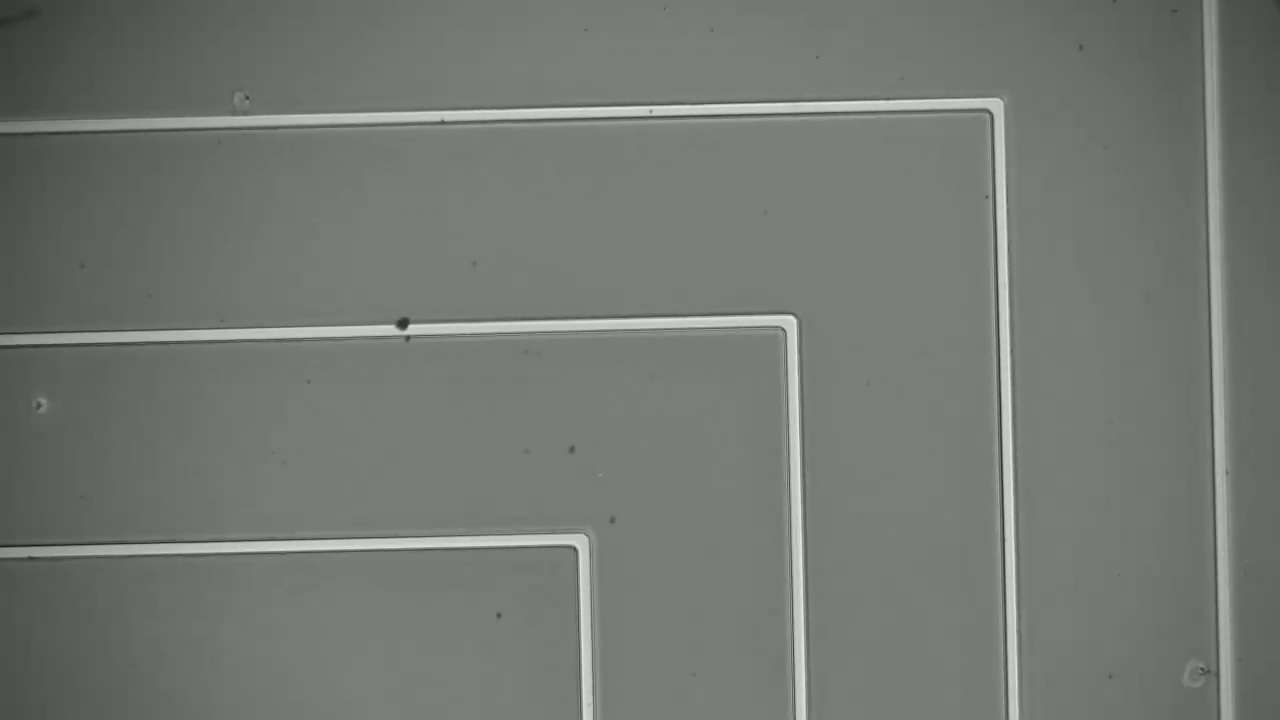stains_enbedded: (390, 311, 419, 343)
